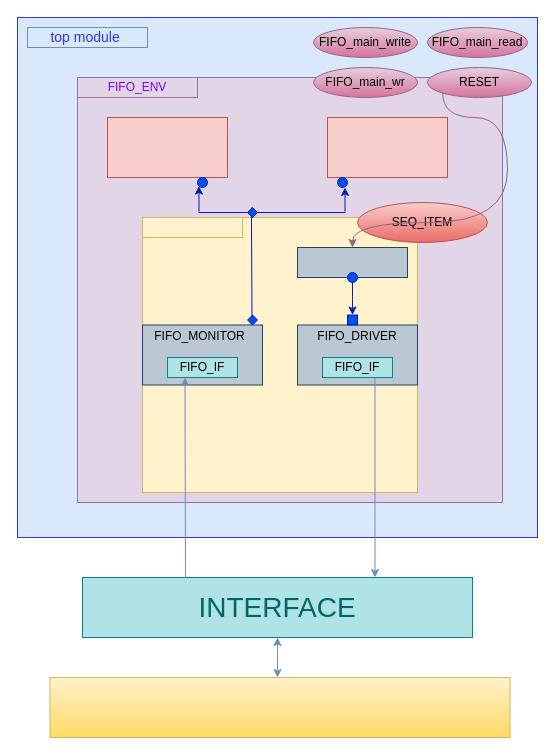
This 555x755 diagram has some shape labels left out. The centre of each missing label's shape, as x and y in pixels:
"COVERAGE_COLL ECTOR" goes at (x=387, y=147).
"DUT" goes at (x=279, y=707).
"FIFO_AGENT" goes at (x=192, y=227).
"FIFO_SCOREBOARD" goes at (x=167, y=147).
"FIFO_SEQUENCER" goes at (x=352, y=262).
